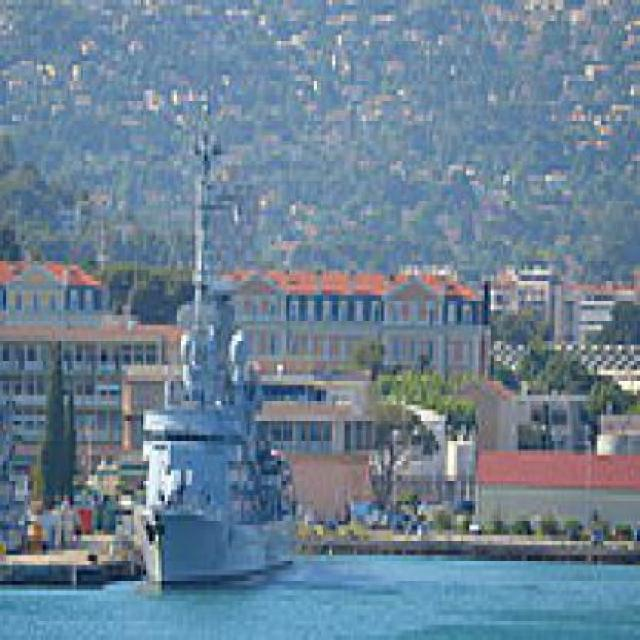warship2: (151, 121, 294, 616)
